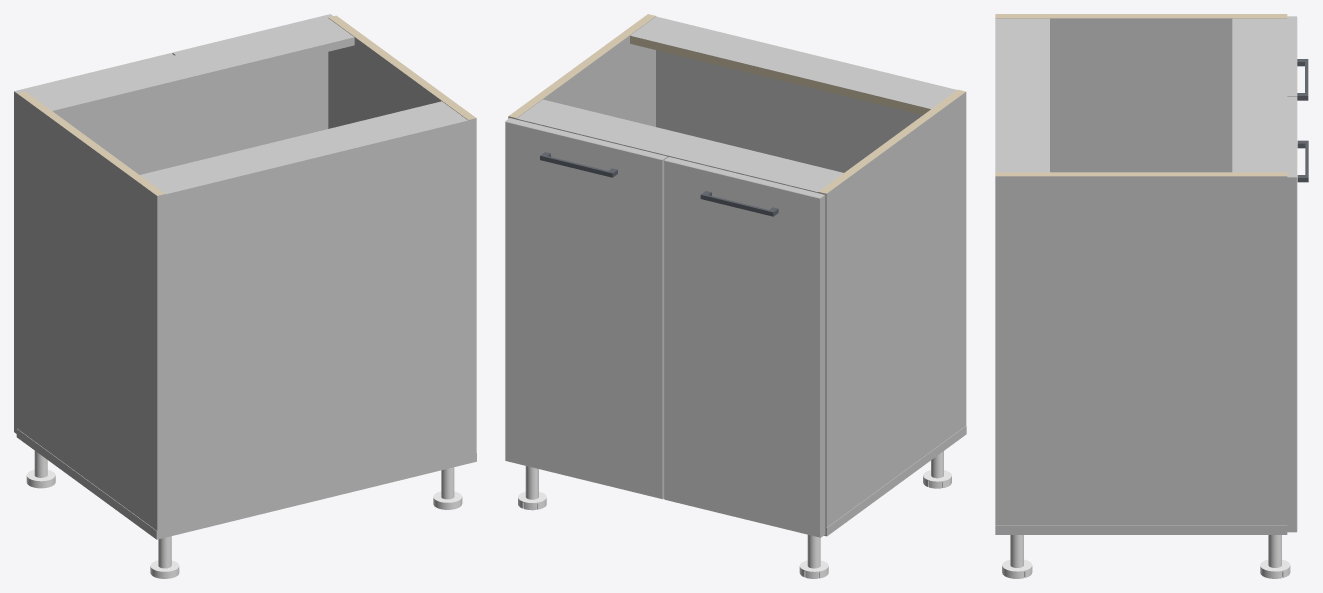
The picture shows the model from 3 angles, left to right: view 1: azimuth 30°, elevation 25°; view 2: azimuth 150°, elevation 25°; view 3: azimuth 270°, elevation 25°; orthographic projection. The views are drawn at different scales.
Visible parts, largest first — view 1: Model; view 2: Model; view 3: Model.
Boxes of the visible parts, x1,y1,x2,y2 form: Model: (14, 14, 476, 578); Model: (505, 14, 966, 578); Model: (995, 14, 1308, 578).
Bounding box in the file's own units: 702 × 815 × 571.
